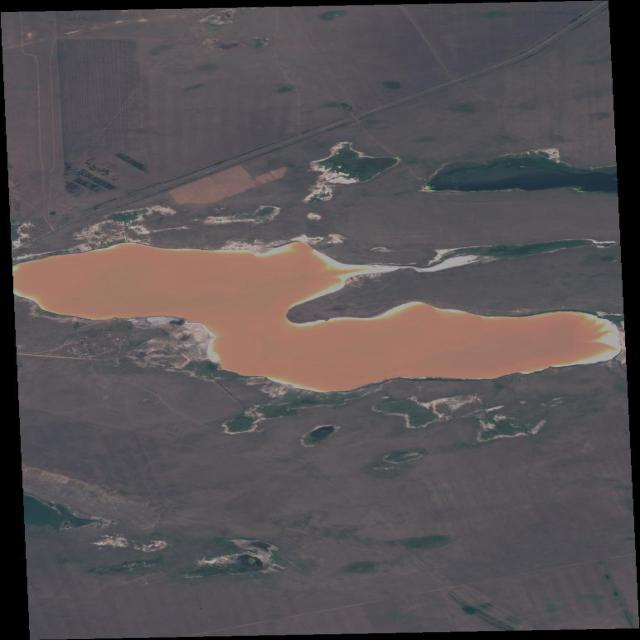argiculture: (0, 380, 640, 640), (3, 0, 613, 224), (59, 40, 140, 161)
water: (14, 242, 619, 392), (424, 148, 616, 192), (305, 142, 399, 202)
